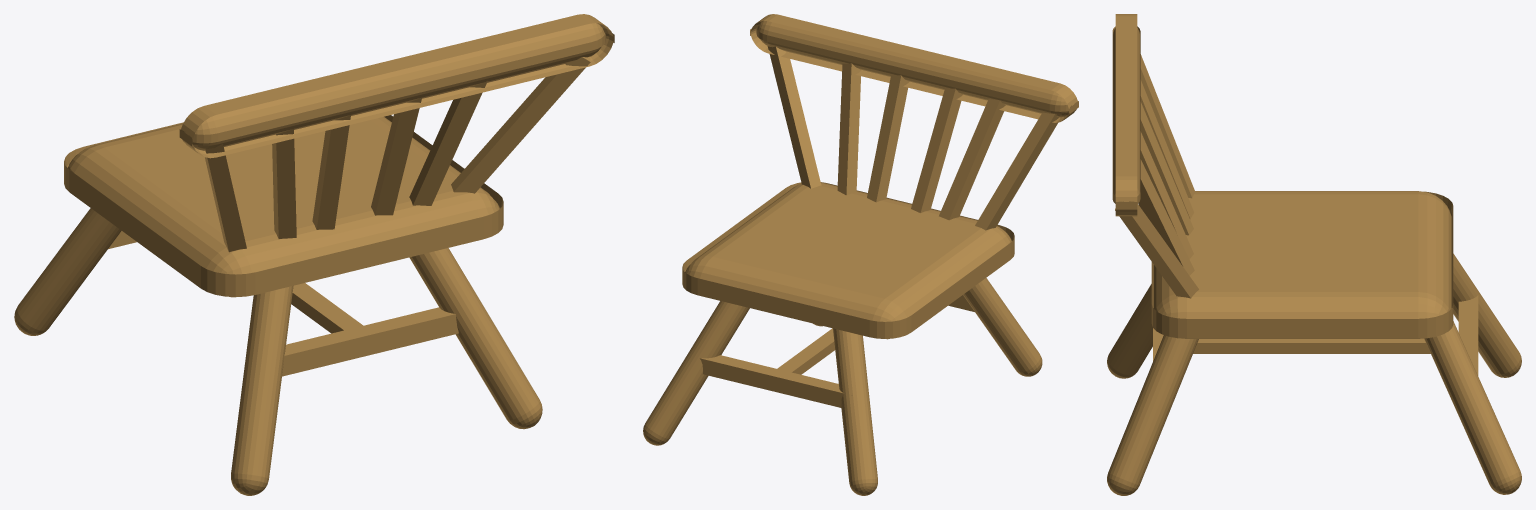
Rendered from chair.glb.
3 renders of one model, left to right at view 1: azimuth 30°, elevation 25°; view 2: azimuth 150°, elevation 25°; view 3: azimuth 270°, elevation 25°, orthographic. The views are drawn at different scales.
Parts seen in each view (by area): view 1: Cube.006, Cube.020, Cube.010, Cube.009, Cube.011, Cube.008, Cube.015, Cube.019, Cube.018, Cube.017, Cube.016, Cube.014 (+1 smaller); view 2: Cube.006, Cube.020, Cube.008, Cube.007, Cube.012, Cube.010, Cube.015, Cube.014, Cube.019, Cube.016, Cube.017, Cube.018 (+1 smaller); view 3: Cube.006, Cube.007, Cube.009, Cube.020, Cube.013, Cube.008, Cube.010, Cube.015, Cube.019, Cube.017, Cube.014, Cube.018 (+2 smaller).
Part boxes in pixels (box(x1,y1,x2,y2)): Cube.006: box(64, 115, 503, 297); Cube.020: box(179, 14, 614, 158); Cube.010: box(231, 285, 293, 495); Cube.009: box(409, 248, 542, 429); Cube.011: box(282, 307, 458, 376); Cube.008: box(14, 208, 121, 335); Cube.015: box(451, 56, 590, 193); Cube.019: box(409, 81, 487, 205); Cube.018: box(371, 98, 421, 215); Cube.017: box(312, 115, 350, 229); Cube.016: box(272, 129, 296, 238); Cube.014: box(205, 144, 246, 252); Cube.006: box(682, 182, 1014, 339); Cube.020: box(750, 14, 1078, 122); Cube.008: box(833, 328, 877, 495); Cube.007: box(643, 301, 749, 445); Cube.012: box(700, 355, 844, 407); Cube.010: box(963, 278, 1042, 376); Cube.015: box(767, 46, 821, 188); Cube.014: box(975, 112, 1059, 230); Cube.019: box(837, 63, 861, 195); Cube.016: box(939, 99, 1005, 220); Cube.017: box(911, 88, 962, 212); Cube.018: box(867, 75, 909, 202); Cube.006: box(1151, 191, 1453, 338); Cube.007: box(1424, 321, 1521, 494); Cube.009: box(1107, 335, 1198, 495); Cube.020: box(1112, 14, 1140, 216); Cube.013: box(1193, 338, 1430, 353); Cube.008: box(1453, 253, 1521, 377); Cube.010: box(1107, 284, 1152, 378); Cube.015: box(1115, 204, 1198, 298); Cube.019: box(1138, 159, 1194, 275); Cube.017: box(1140, 102, 1193, 235); Cube.014: box(1140, 54, 1195, 198); Cube.018: box(1140, 131, 1193, 259).
Bounding box in the file's own units: 3.93 × 3.48 × 3.8.
